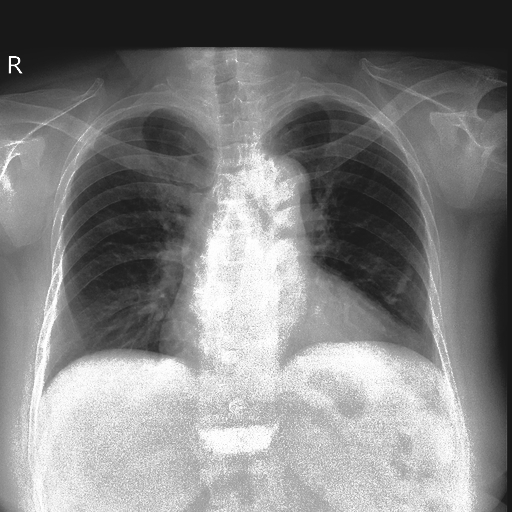Consolidation: (251, 156, 314, 236)
Lung Opacity: (384, 263, 415, 305)
Nodule/Mass: (156, 298, 406, 361)
Other lesion: (198, 422, 273, 455), (386, 265, 414, 304)
